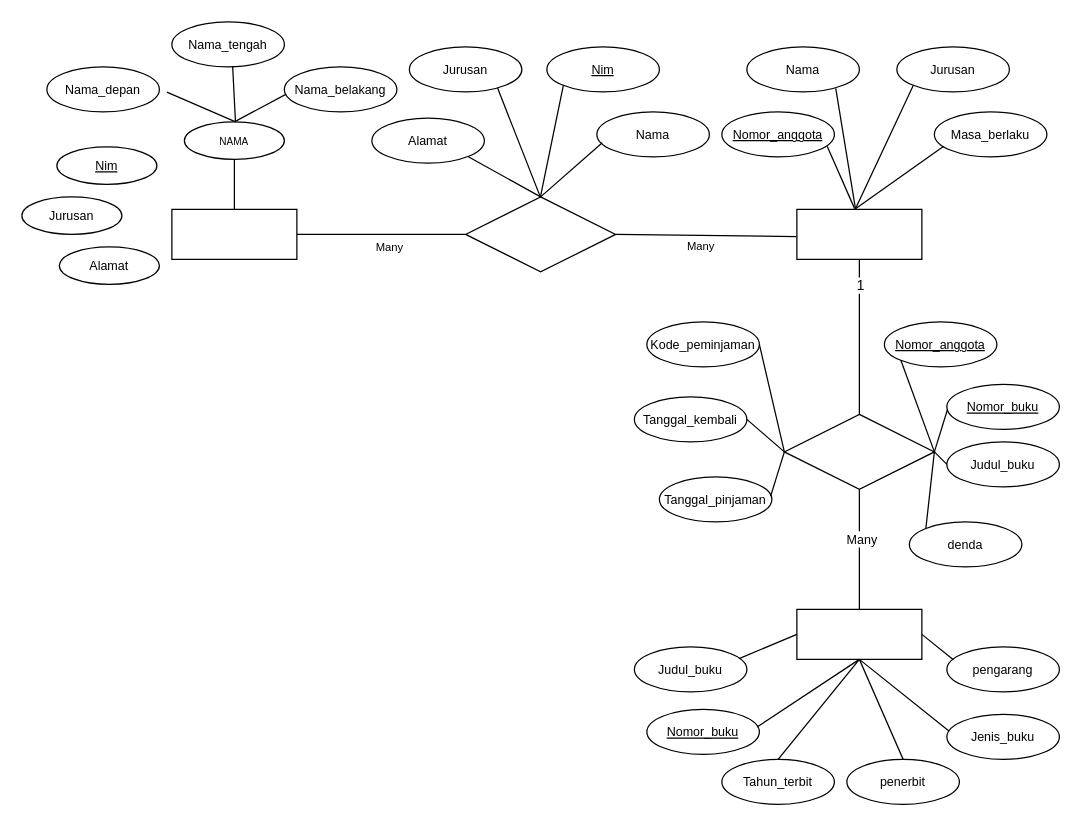
Image size: 1081x826. Some labels were removed from this diagram. The shapes that lost their labels are listed below. From the top down, each one's centre as x and y in pixels, then its label:
point (234, 233): MahaSiswa
point (540, 234): Mendaftar
point (859, 233): Anggota Perpustakaan
point (858, 451): Meminjam
point (859, 633): Buku
